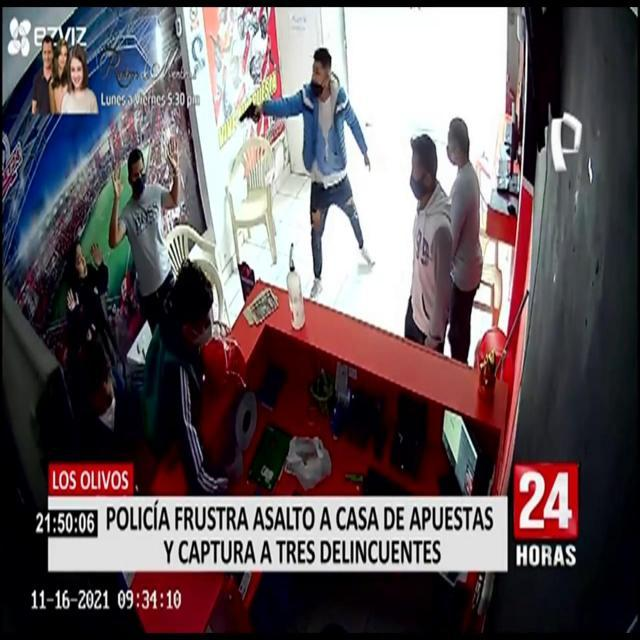weapon: (232, 92, 268, 136)
